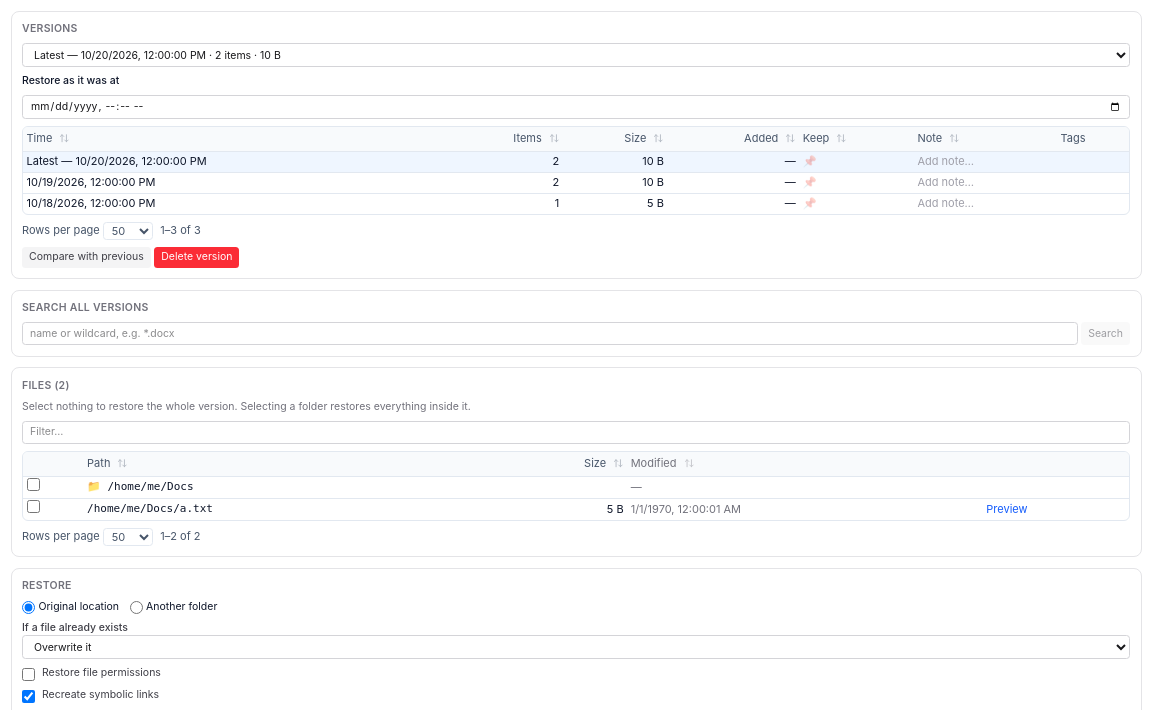
Test: restore view › cancelling the mirror list deletes nothing
The image size is (1152, 710).
Check: the element with test id "backup-file-list" shows "a.txt", box x1=87 y1=502 x2=213 y2=515
Click the radio button labelled "Another folder": (136, 607) x1=130 y1=600 x2=142 y2=614
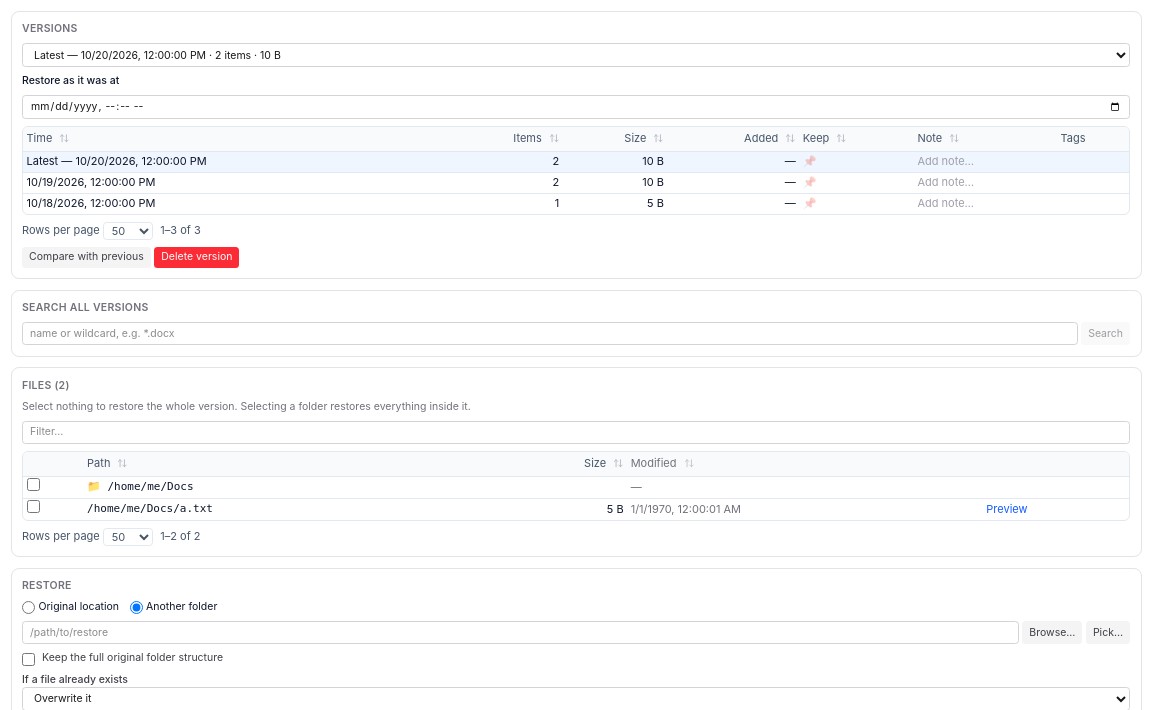
In the field with test id "restore-target": (520, 632) x1=22 y1=621 x2=1019 y2=644, type "/r"
(page scrolled)
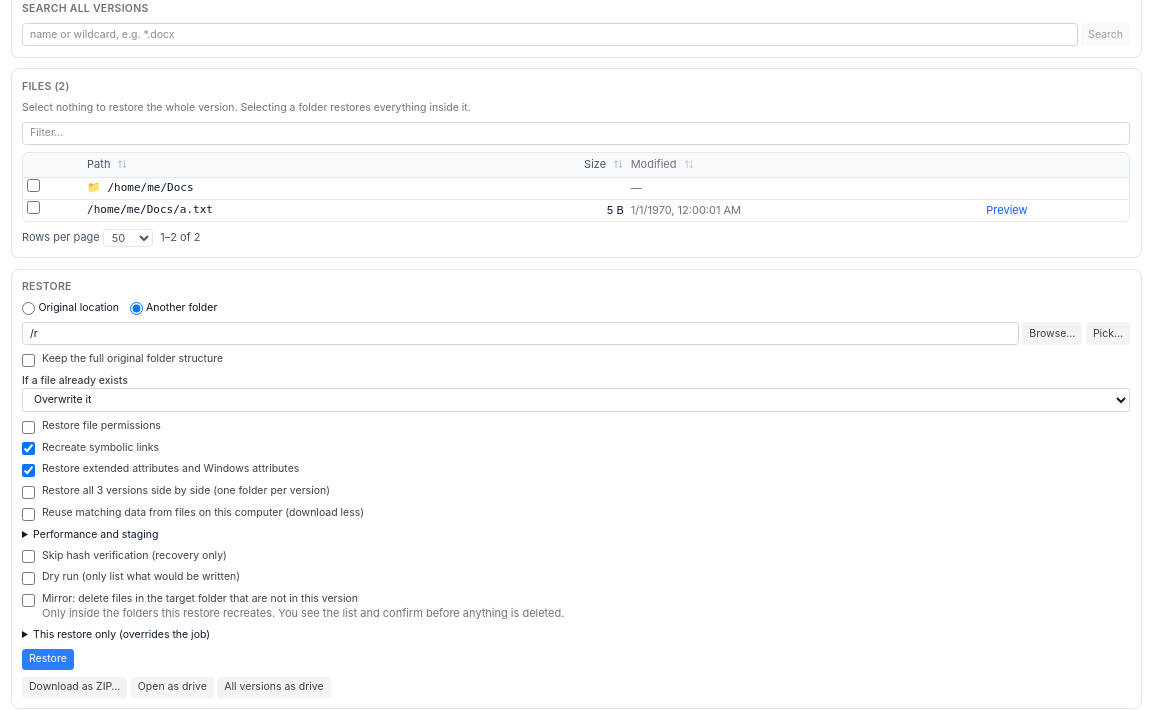
Click the checkbox labelled "Mirror: delete files": (28, 600) x1=22 y1=594 x2=35 y2=607
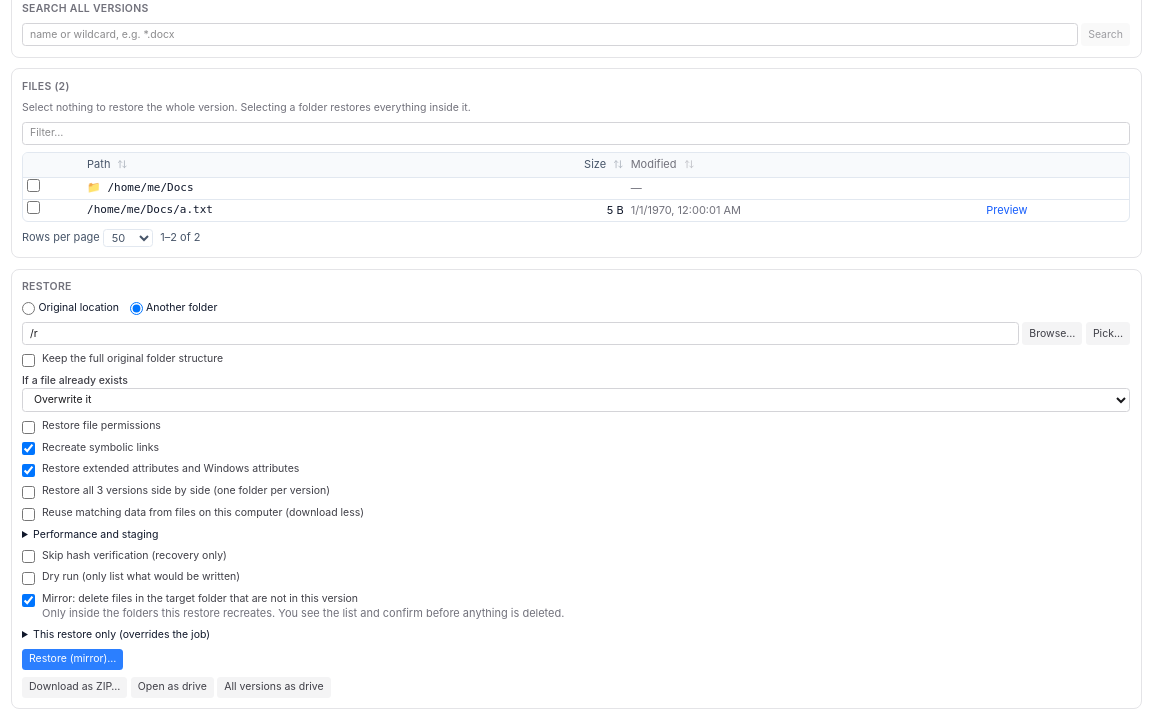
Click the button with test id "backup-restore-run": (73, 659) x1=22 y1=649 x2=123 y2=670
(page scrolled)
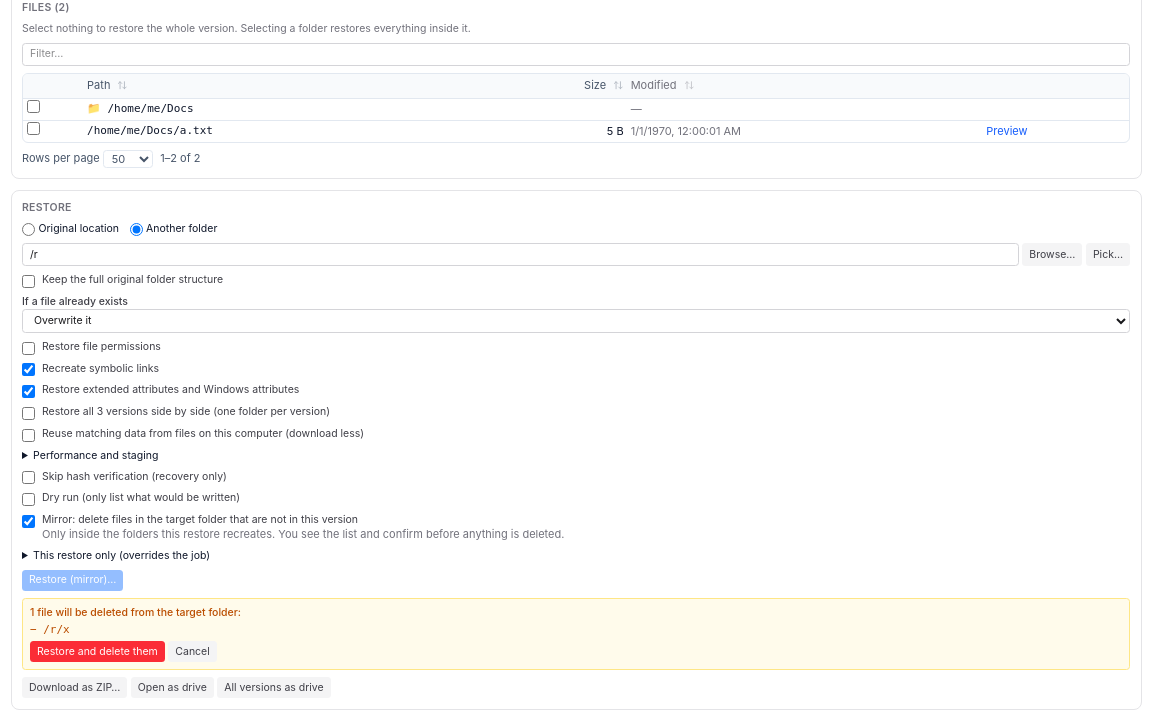
Check: the element with test id "mirror-confirm" is shown, box x1=30 y1=606 x2=241 y2=662
Click the button "Cancel": (192, 652) x1=168 y1=641 x2=217 y2=662
(page scrolled)
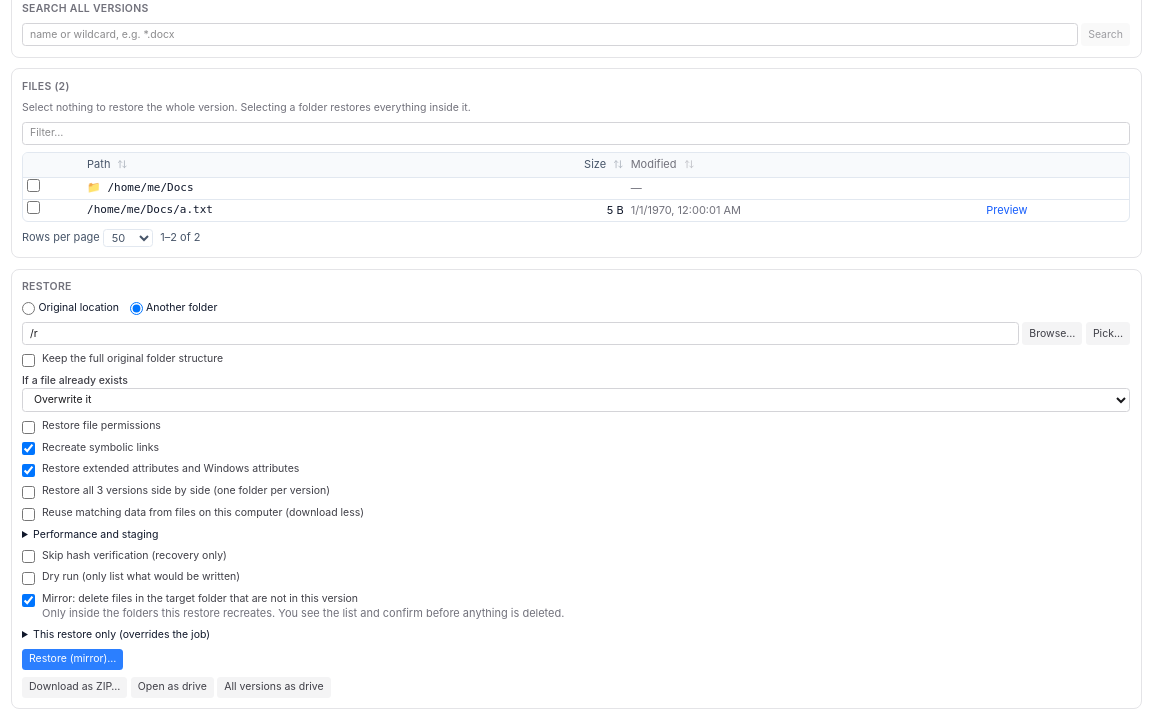
Check: the element with test id "mirror-confirm" is gone
